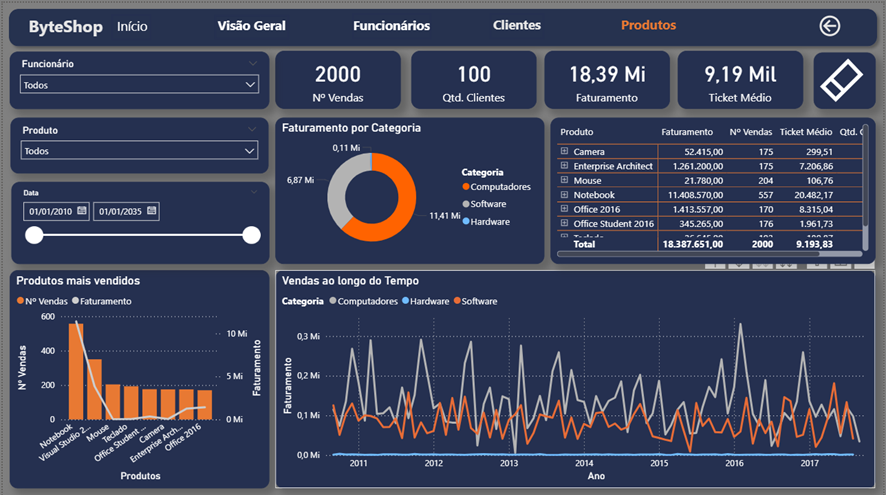

This screenshot's page, from the dashboard's own definition file:
{"tool":"powerbi","page":{"name":"Produtos","canvas":[1280,720],"ordinal":4},"visuals":[{"type":"lineClusteredColumnComboChart","title":"Produtos mais vendidos","fields":{"Category":["public dim_produto.nm_produto"],"Y":["_Medidas.Nº Vendas"],"Y2":["_Medidas.Faturamento"]},"box":[10,390,377.5,318.8],"z":0},{"type":"card","fields":{"Values":["_Medidas.Nº Vendas"]},"box":[396.2,70,182.5,85],"z":1000},{"type":"actionButton","box":[1178.8,72.5,90,82.5],"z":2000},{"type":"slicer","fields":{"Values":["public dim_funcionario.nm_funcionario"]},"box":[10,71.2,377.5,83.8],"z":3000},{"type":"slicer","fields":{"Values":["public dim_produto.nm_produto"]},"box":[11.2,167.5,375,81.2],"z":4000},{"type":"slicer","fields":{"Values":["public dim_data.desc_data_completa"]},"box":[12.5,261.2,375,120],"z":5000},{"type":"shape","box":[0,0,1280,72.5],"z":6000},{"type":"textbox","box":[32.5,12.5,125,48.8],"z":7000},{"type":"textbox","box":[307,15.2,108.8,38.8],"z":8000},{"type":"textbox","box":[497,15.2,135,41.2],"z":9000},{"type":"textbox","box":[707.5,13.8,80,41.2],"z":10000},{"type":"textbox","box":[885.8,14,105,41.2],"z":11000},{"type":"card","fields":{"Values":["_Medidas.Qtd. Clientes"]},"box":[593.8,70,182.5,85],"z":12000},{"type":"card","fields":{"Values":["_Medidas.Faturamento"]},"box":[787.5,70,182.5,85],"z":13000},{"type":"card","fields":{"Values":["_Medidas.Ticket Médio"]},"box":[981.2,70,182.5,85],"z":14000},{"type":"actionButton","box":[1182.5,13.8,41.2,40],"z":15000},{"type":"actionButton","box":[307.5,17.5,108.8,36.2],"z":16000},{"type":"actionButton","box":[707.5,15,80,38.8],"z":17000},{"type":"actionButton","box":[507.5,15,116.2,38.8],"z":18000},{"type":"actionButton","box":[307.5,17.5,108.8,36.2],"z":19000},{"type":"donutChart","fields":{"Category":["public dim_produto.nm_categoria"],"Y":["_Medidas.Faturamento"]},"box":[396.2,167.5,391.2,213.8],"z":20000},{"type":"lineChart","title":"Vendas ao longo do Tempo","fields":{"Category":["public dim_data.nk_data.Variation.Hierarquia de datas.Ano","public dim_data.nk_data.Variation.Hierarquia de datas.Trimestre","public dim_data.nk_data.Variation.Hierarquia de datas.Mês","public dim_data.nk_data.Variation.Hierarquia de datas.Dia"],"Y":["_Medidas.Faturamento"],"Series":["public dim_produto.nm_categoria"]},"box":[396.2,390,872.5,318.8],"z":21000},{"type":"pivotTable","fields":{"Rows":["public dim_produto.nm_produto","public dim_produto.nm_categoria"],"Values":["_Medidas.Faturamento","_Medidas.Nº Vendas","_Medidas.Ticket Médio","_Medidas.Qtd. Clientes"]},"box":[796.2,167.5,472.5,213.8],"z":22000},{"type":"textbox","box":[161.2,16.2,65,41.2],"z":23000},{"type":"actionButton","box":[157.5,16.2,58.8,38.8],"z":24000}]}

Visuals, with their boxes in screenshot pixels (x1, y1, x2, y2), scaled from the page's 1280x720 canvas onto the 886x495 screenshot:
"Produtos mais vendidos" lineClusteredColumnComboChart: detection(7, 268, 268, 487)
card - _Medidas.Nº Vendas: detection(274, 48, 401, 107)
actionButton: detection(816, 50, 878, 107)
slicer - public dim_funcionario.nm_funcionario: detection(7, 49, 268, 107)
slicer - public dim_produto.nm_produto: detection(8, 115, 267, 171)
slicer - public dim_data.desc_data_completa: detection(9, 180, 268, 262)
shape: detection(0, 0, 885, 50)
textbox: detection(22, 9, 109, 42)
textbox: detection(213, 10, 288, 37)
textbox: detection(344, 10, 437, 39)
textbox: detection(490, 9, 545, 38)
textbox: detection(613, 10, 686, 38)
card - _Medidas.Qtd. Clientes: detection(411, 48, 537, 107)
card - _Medidas.Faturamento: detection(545, 48, 671, 107)
card - _Medidas.Ticket Médio: detection(679, 48, 805, 107)
actionButton: detection(819, 9, 847, 37)
actionButton: detection(213, 12, 288, 37)
actionButton: detection(490, 10, 545, 37)
actionButton: detection(351, 10, 432, 37)
actionButton: detection(213, 12, 288, 37)
donutChart - public dim_produto.nm_categoria x _Medidas.Faturamento: detection(274, 115, 545, 262)
"Vendas ao longo do Tempo" lineChart: detection(274, 268, 878, 487)
pivotTable - public dim_produto.nm_produto x public dim_produto.nm_categoria: detection(551, 115, 878, 262)
textbox: detection(112, 11, 157, 39)
actionButton: detection(109, 11, 150, 38)
